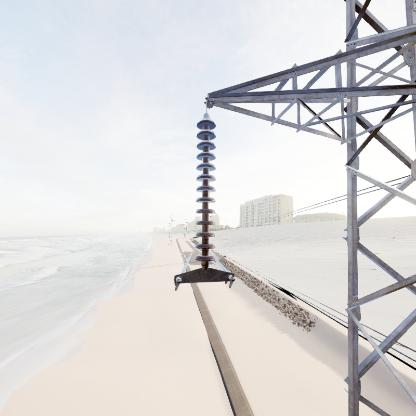insulator: (191, 113, 217, 268)
